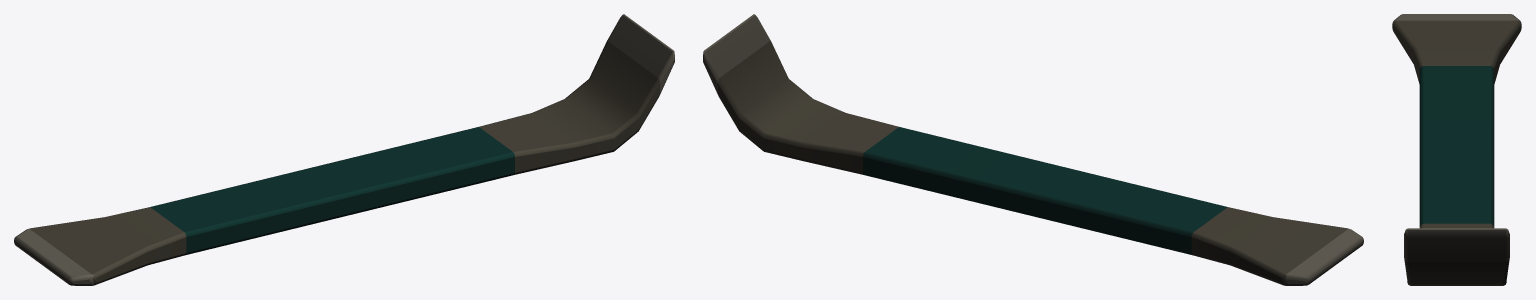
File: hive_tool.fbx
3 views of the same model, side by side, from view 1: azimuth 30°, elevation 25°; view 2: azimuth 150°, elevation 25°; view 3: azimuth 270°, elevation 25° (orthographic).
Visible parts, largest first — view 1: Hive Tool; view 2: Hive Tool; view 3: Hive Tool.
Boxes of the visible parts, x1,y1,x2,y2 form: Hive Tool: (14, 14, 674, 285); Hive Tool: (703, 14, 1363, 285); Hive Tool: (1392, 14, 1521, 285).
Bounding box in the file's own units: 0.222 × 0.0324 × 0.0415.
